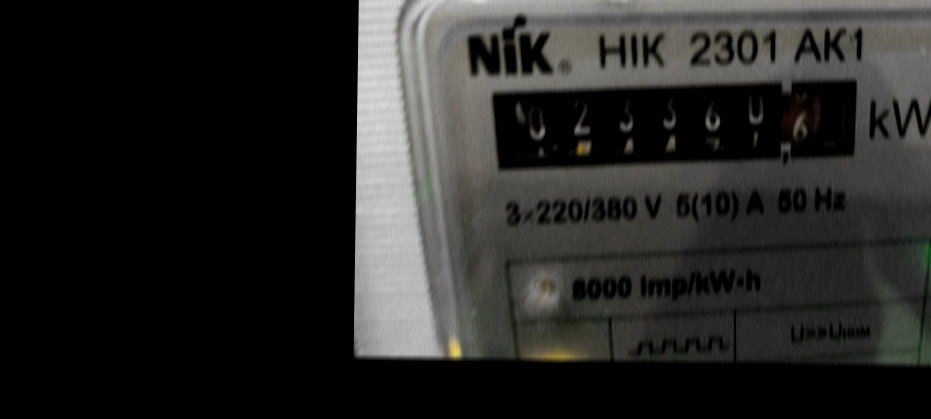0: (525, 100, 551, 142), (746, 88, 769, 125)
2: (569, 94, 596, 135)
3: (616, 93, 638, 133), (658, 92, 681, 130)
6: (700, 92, 727, 134), (792, 108, 814, 144)
screen: (471, 60, 873, 184)
